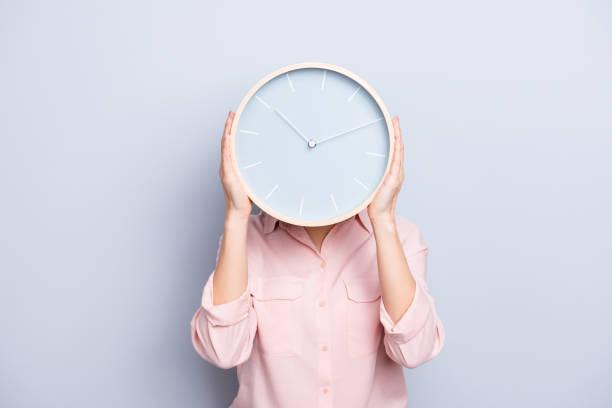clock: (220, 60, 394, 235)
